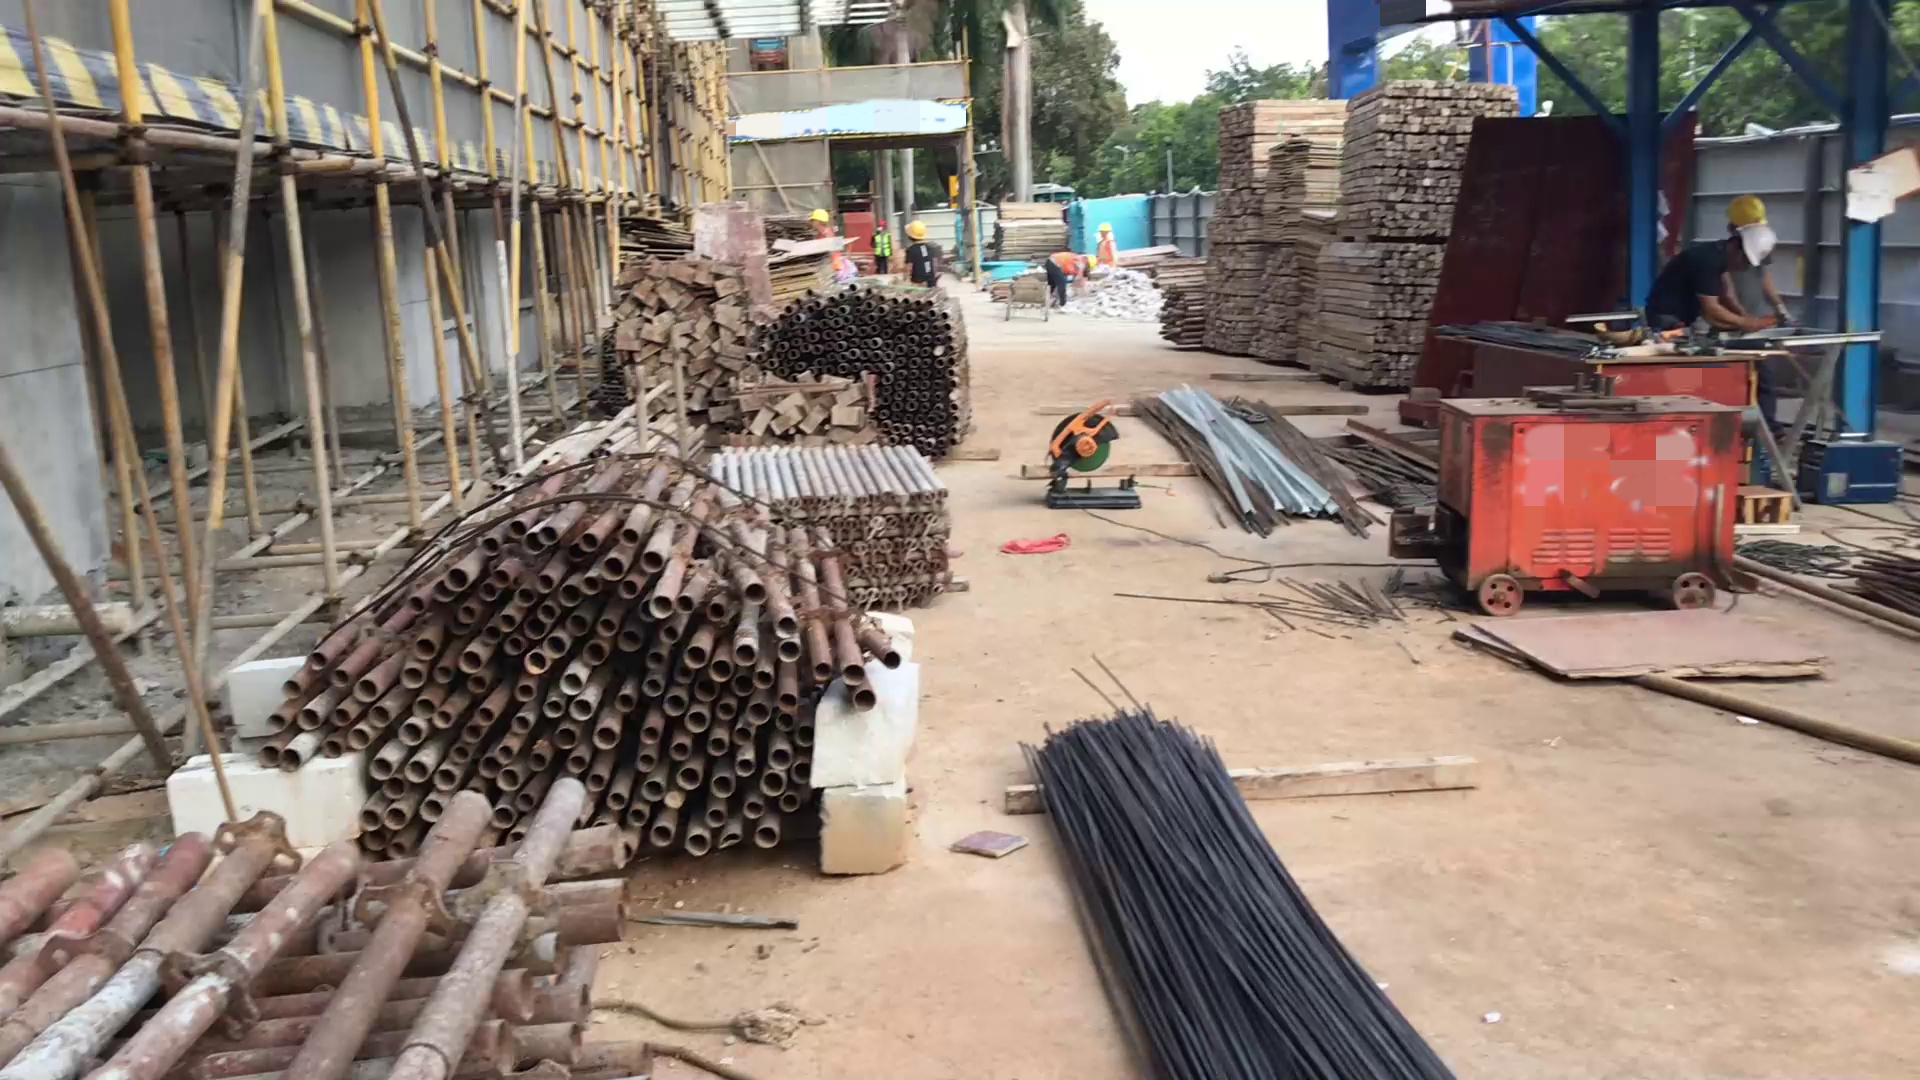cutter: (1028, 389, 1147, 514)
helmet: (1721, 196, 1774, 268)
person: (1645, 216, 1774, 352), (1042, 242, 1099, 309), (1726, 190, 1775, 257), (900, 220, 938, 295), (805, 201, 842, 274), (869, 213, 896, 270), (1093, 224, 1120, 273)
rebar: (1001, 694, 1478, 1080)
scaffold: (268, 449, 907, 868), (12, 775, 665, 1080), (706, 420, 957, 608), (780, 278, 980, 444)
wood: (1195, 73, 1526, 393)
